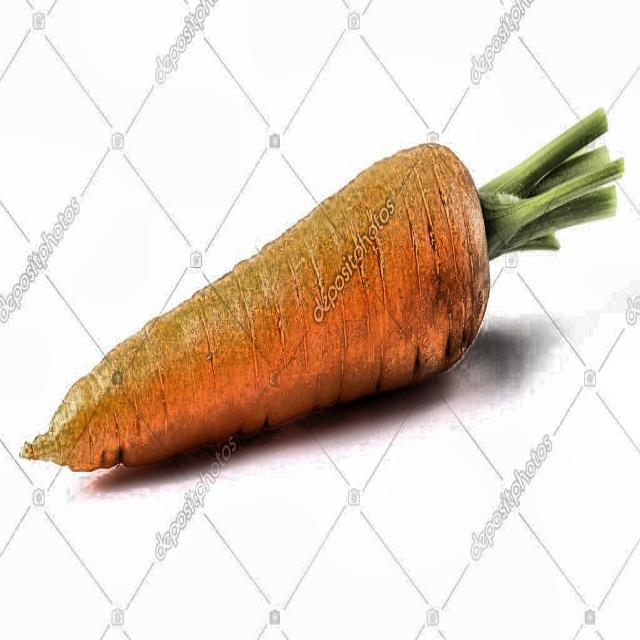carrot: (8, 27, 616, 624)
